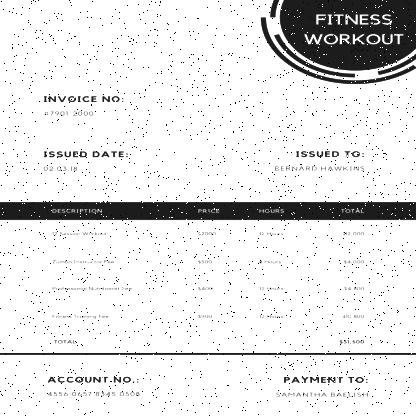Paragraph: (48, 334, 374, 350), (298, 10, 409, 49), (268, 372, 374, 402), (40, 371, 146, 401), (268, 146, 370, 176), (36, 146, 136, 176), (36, 90, 130, 121)
Table: (9, 201, 405, 328)
